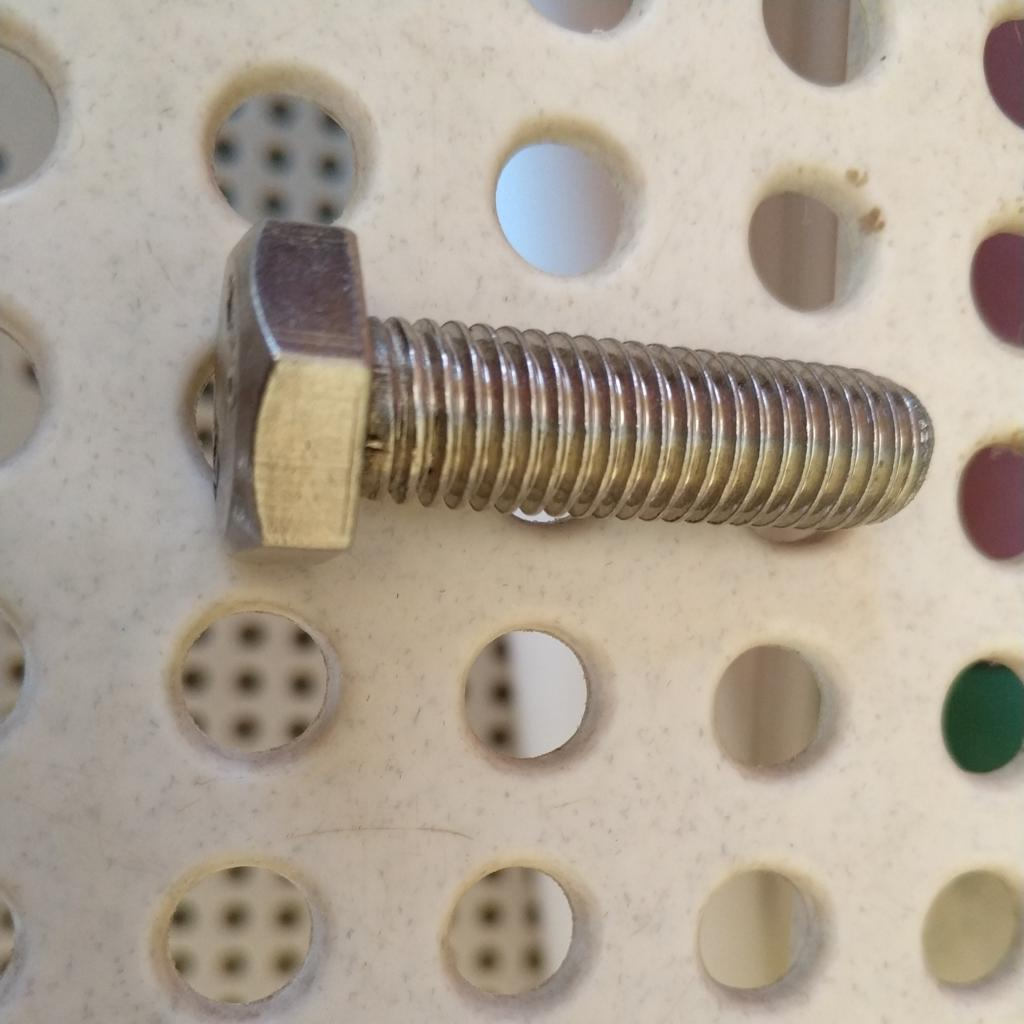screwtype2silver: (205, 214, 940, 604)
